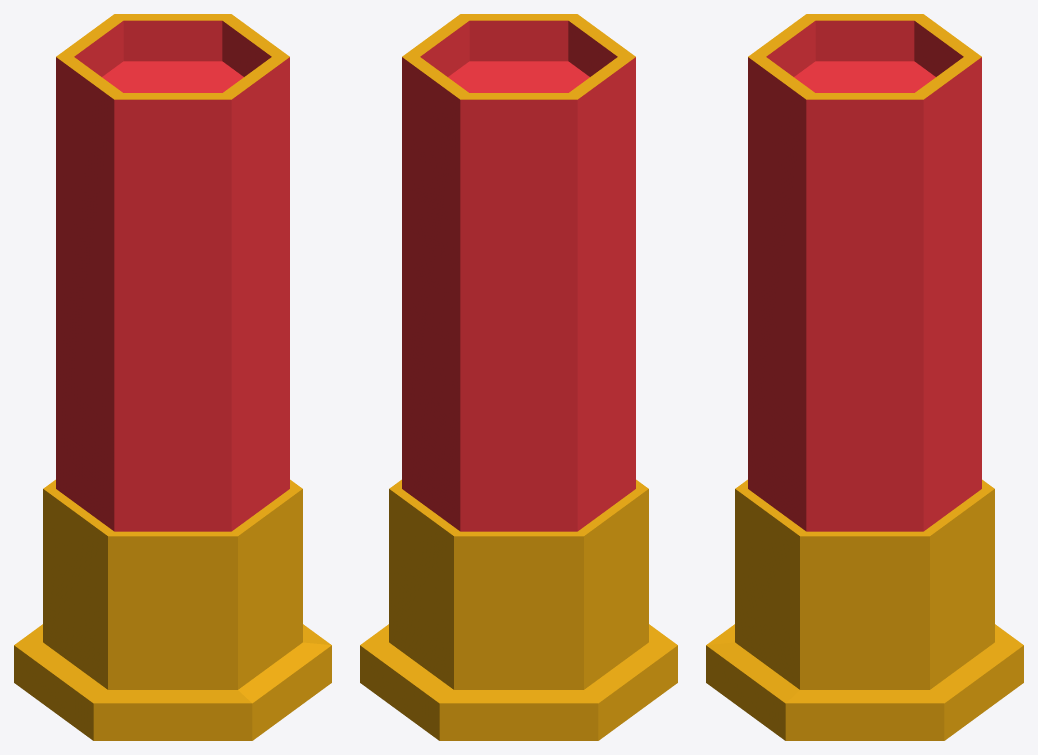
The model's file is Bullet.fbx.
3 views of the same model, side by side, from view 1: azimuth 30°, elevation 25°; view 2: azimuth 150°, elevation 25°; view 3: azimuth 270°, elevation 25° (orthographic).
Visible parts, largest first — view 1: Cylinder; view 2: Cylinder; view 3: Cylinder.
Part boxes in pixels (x1,y1,x2,y2): Cylinder: (14,14,331,740); Cylinder: (360,14,677,740); Cylinder: (706,14,1023,740).
Size of the model in its own units: 151 by 379 by 174.
1 material, 1 textured.
